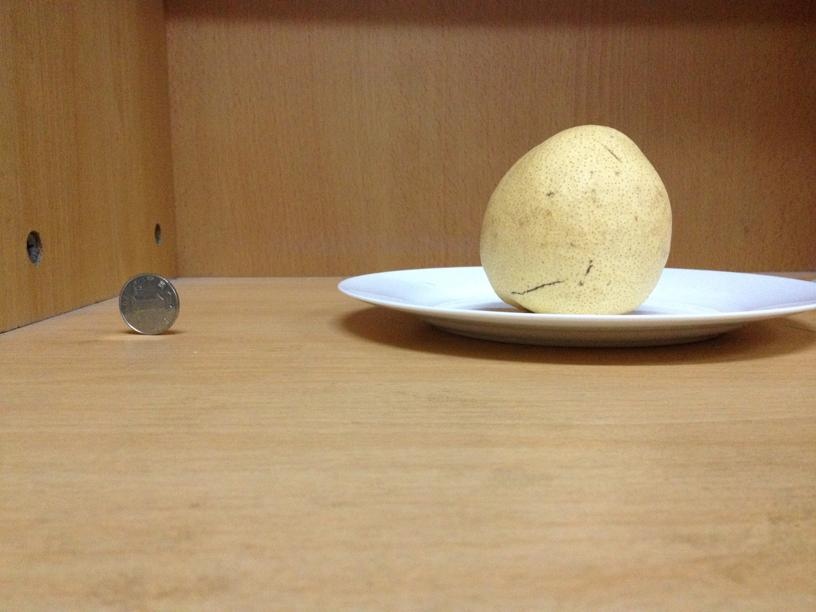coin: (118, 271, 179, 337)
pear: (476, 120, 672, 314)
